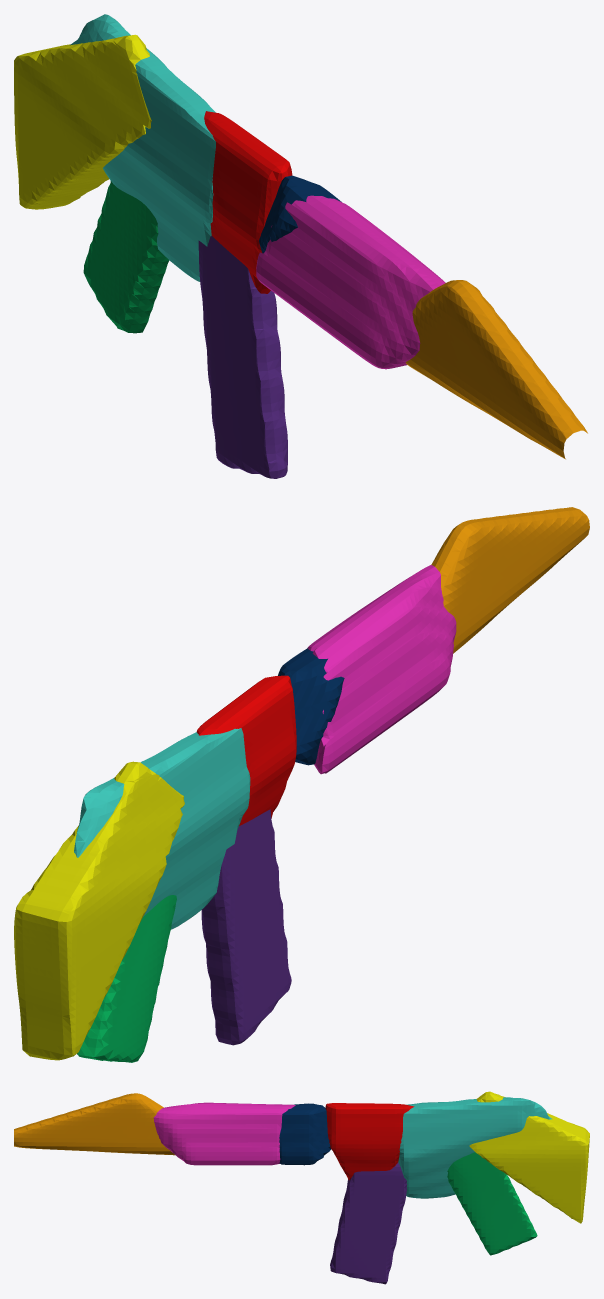
3 views of the same model, one above another, from view 1: azimuth 30°, elevation 25°; view 2: azimuth 150°, elevation 25°; view 3: azimuth 270°, elevation 25° (orthographic). The views are drawn at different scales.
Visible parts, largest first — view 1: 2e5436e635dc4336984c76a5f92c7141_l00; view 2: 2e5436e635dc4336984c76a5f92c7141_l00; view 3: 2e5436e635dc4336984c76a5f92c7141_l00.
Boxes of the visible parts, left/top/right/bottom form: 2e5436e635dc4336984c76a5f92c7141_l00: left=14, top=14, right=587, bottom=478; 2e5436e635dc4336984c76a5f92c7141_l00: left=14, top=507, right=589, bottom=1062; 2e5436e635dc4336984c76a5f92c7141_l00: left=14, top=1091, right=589, bottom=1284.
Bounding box in the file's own units: 0.1601 × 0.7194 × 1.98.
